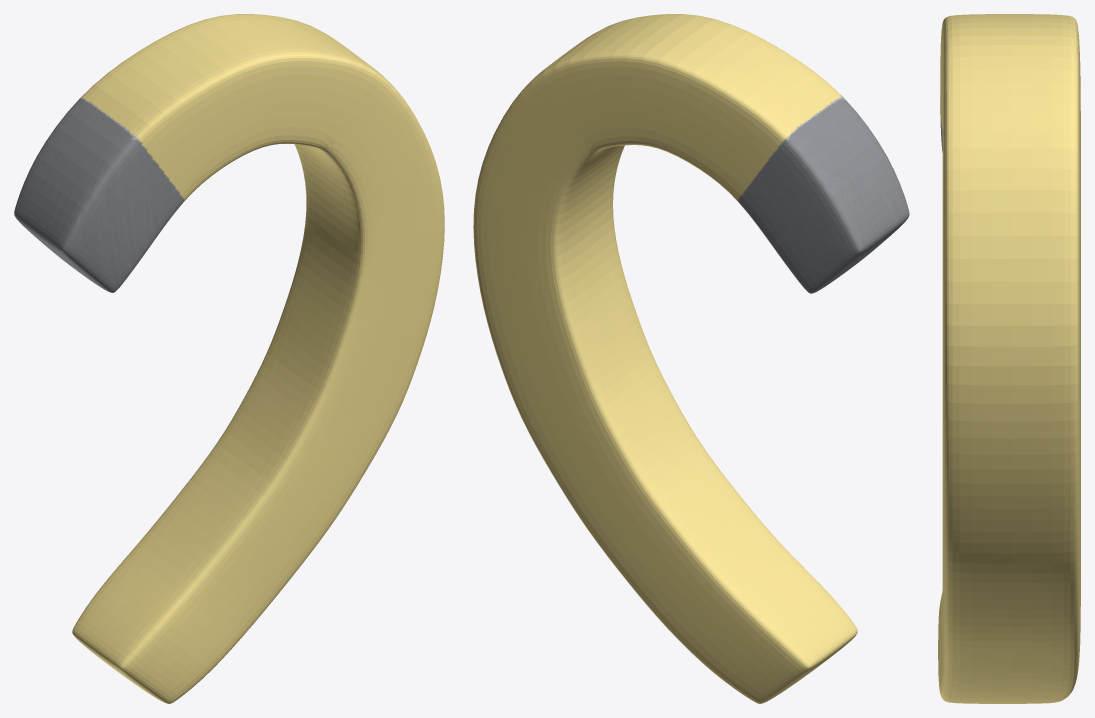
The model's file is Magnus_01.fbx.
3 views of the same model, side by side, from view 1: azimuth 30°, elevation 25°; view 2: azimuth 150°, elevation 25°; view 3: azimuth 270°, elevation 25° (orthographic). The views are drawn at different scales.
Visible parts, largest first — view 1: Magnus; view 2: Magnus; view 3: Magnus.
Part boxes in pixels (x1,y1,x2,y2): Magnus: (14, 14, 444, 703); Magnus: (473, 14, 909, 703); Magnus: (938, 14, 1080, 703).
Bounding box in the file's own units: 829 × 1293 × 233.
